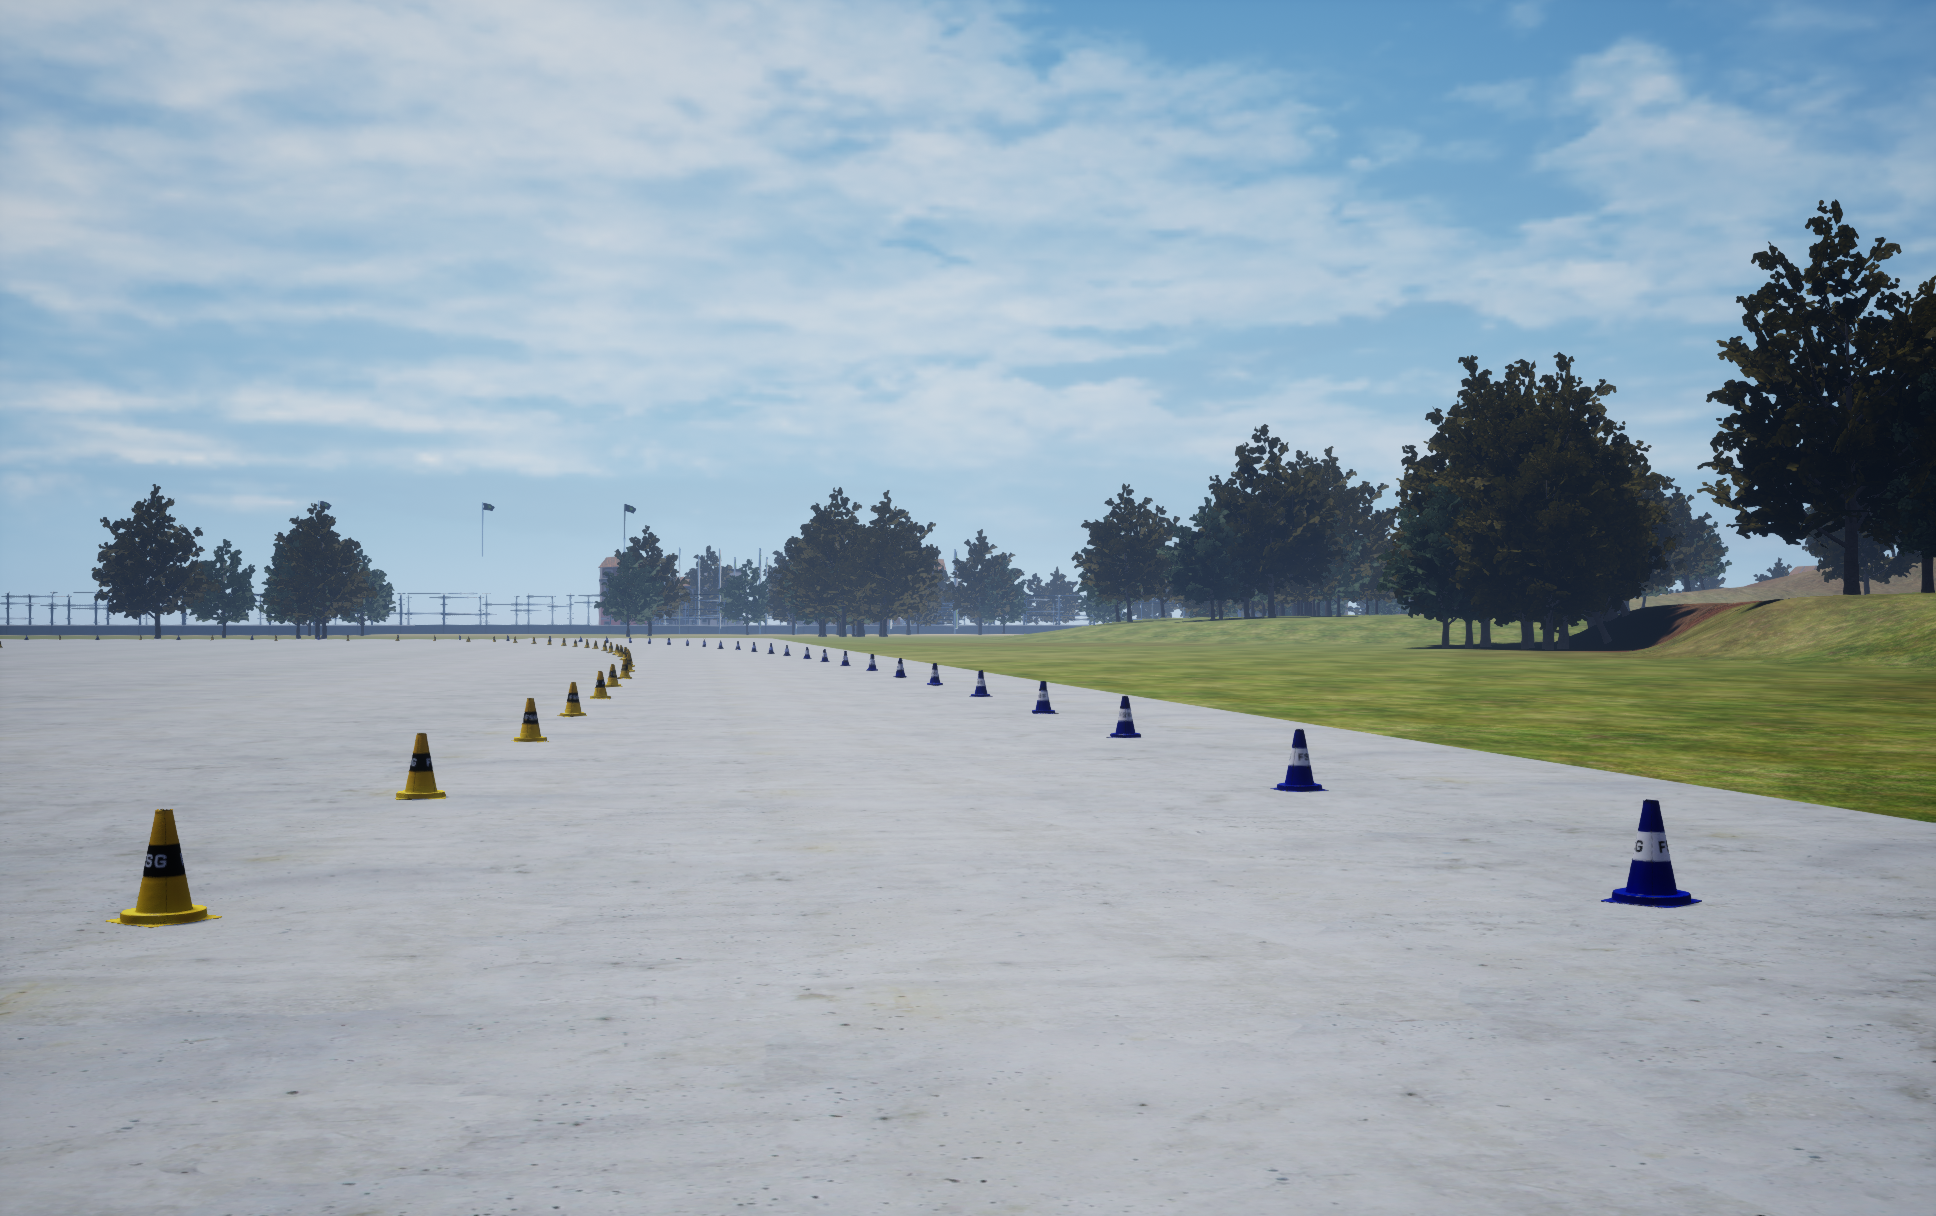blue: (105, 808, 221, 927), (395, 733, 445, 799), (511, 698, 548, 741), (558, 682, 586, 716), (590, 671, 609, 698), (605, 664, 622, 686), (616, 658, 630, 678)
yellow: (1601, 799, 1701, 906), (1271, 728, 1328, 792), (1107, 696, 1140, 737), (1032, 681, 1058, 713), (969, 670, 992, 696), (927, 663, 941, 685), (892, 658, 906, 677)
